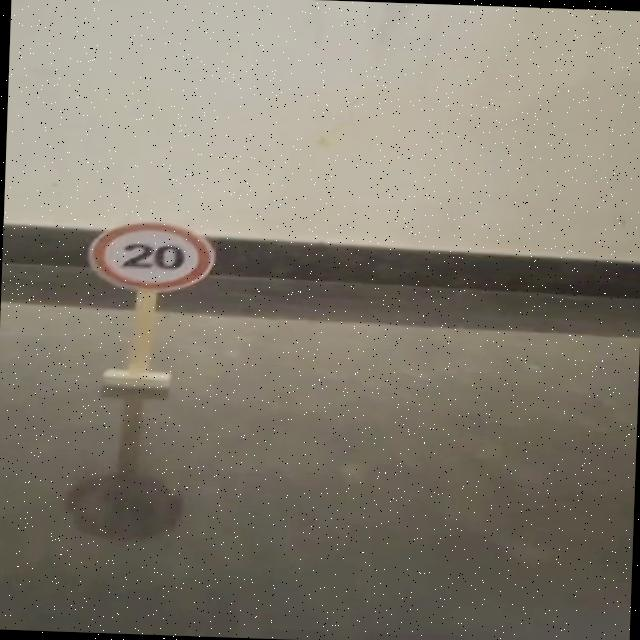Speed20: (74, 213, 226, 301)
